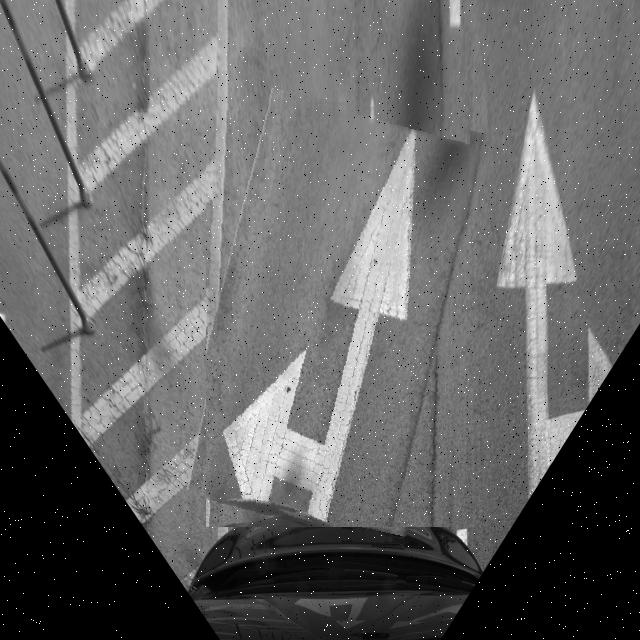forward_left: (206, 98, 471, 527)
